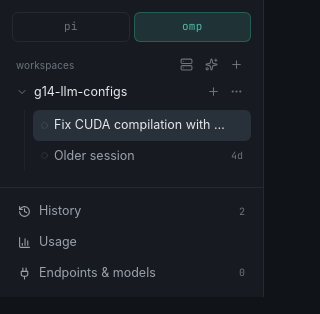
Scenario: Sidebar › archives a whole project workspace while keeping its sessions in history
The width and height of the screenshot is (320, 314).
Click the button named "Workspace actions for g14-llm-configs" at (236, 92), box [226,81,247,102]
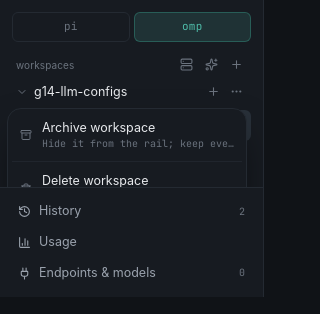
Click the menu item "Archive workspace Hide it from the rail; keep every session" at (127, 135), box [12,112,242,157]
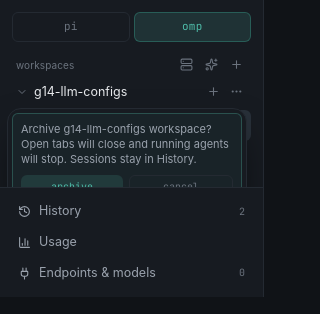
Now the text "Open tabs will close and running agents will stop" is shown, box [21,122,229,166]
Click the button with aria-label "Archive workspace now" at (72, 187), box [21,175,123,199]
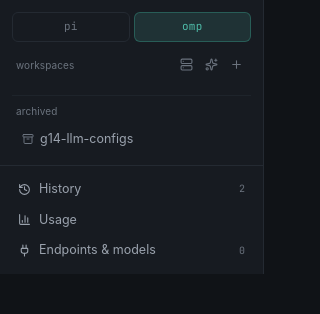
Now the button with aria-label "Restore workspace g14-llm-configs" is shown, box [16,126,222,153]
